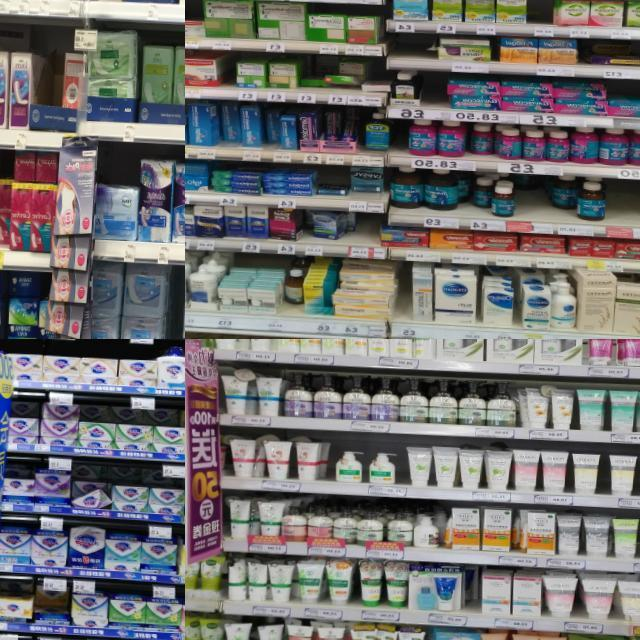Imprecise: (69, 460, 191, 518), (72, 402, 186, 456), (5, 146, 58, 256), (27, 579, 74, 638), (541, 175, 581, 222), (456, 168, 492, 218), (320, 112, 360, 148), (10, 400, 40, 445), (0, 464, 38, 499), (464, 122, 498, 160), (457, 565, 482, 612), (328, 62, 368, 88), (217, 101, 240, 146), (261, 101, 282, 148), (360, 80, 392, 92), (298, 76, 326, 87)
